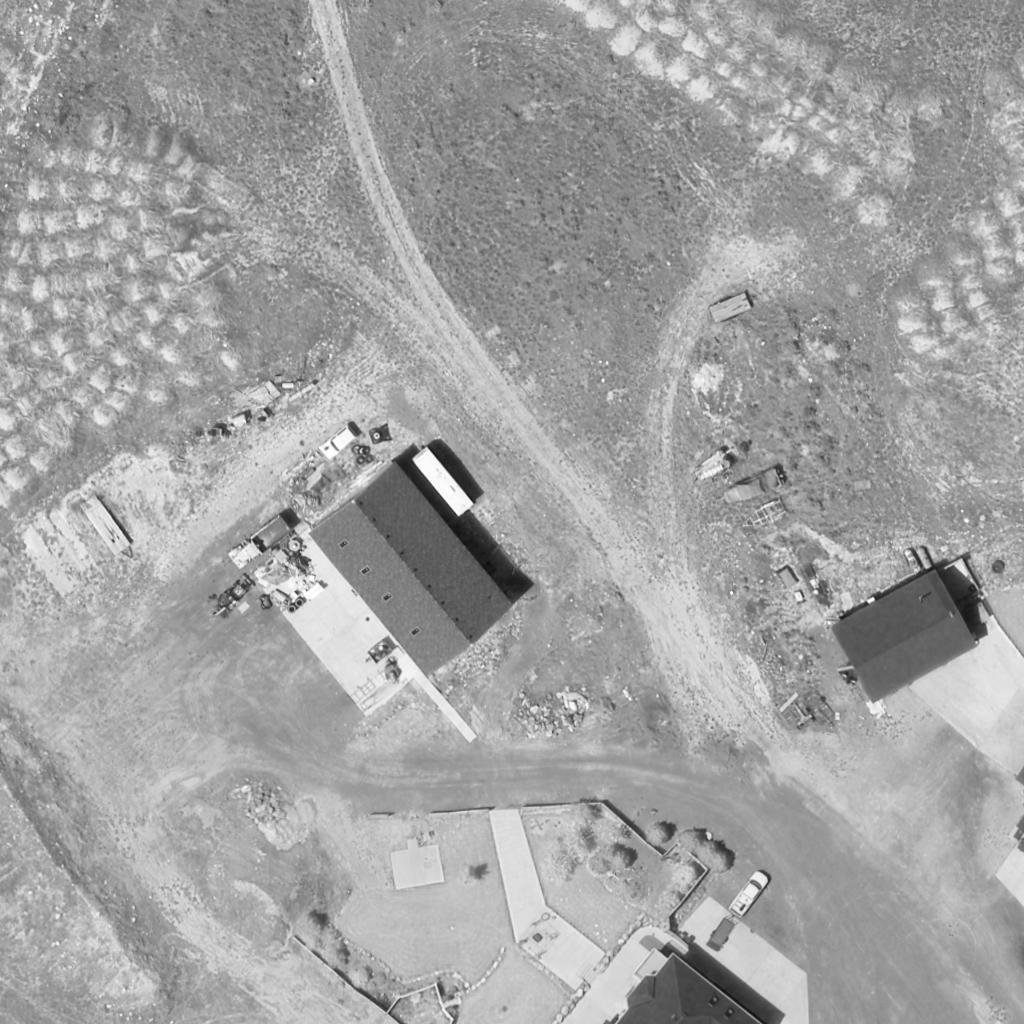vehicle: (411, 448, 475, 518), (227, 514, 293, 570), (212, 572, 256, 622), (316, 419, 364, 463), (728, 870, 770, 920)
